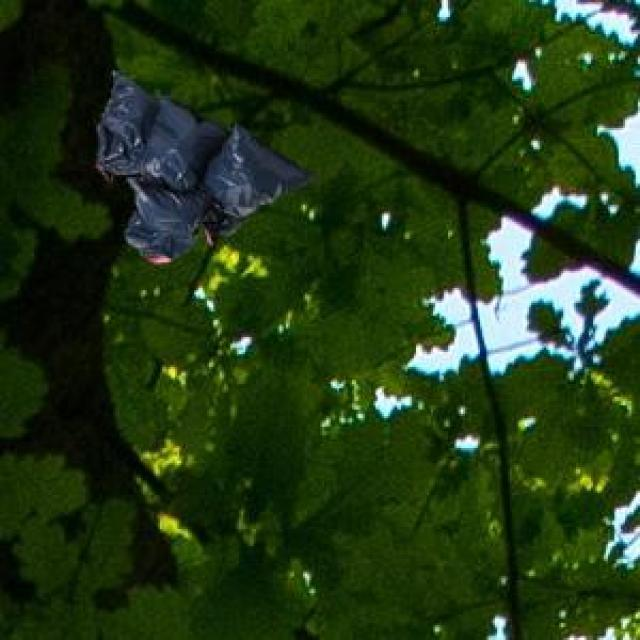miscellaneous trash: (92, 66, 312, 258)
